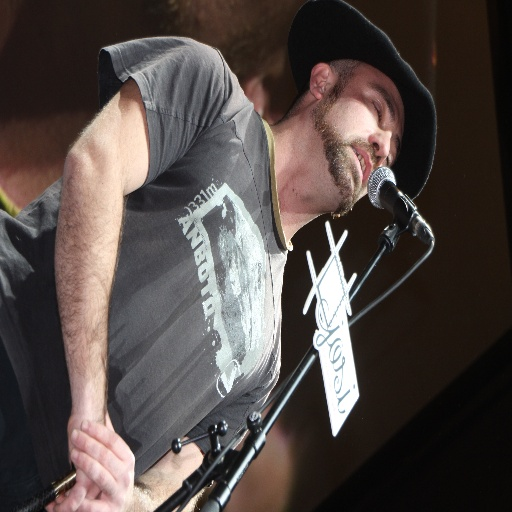hand: (52, 423, 114, 511)
